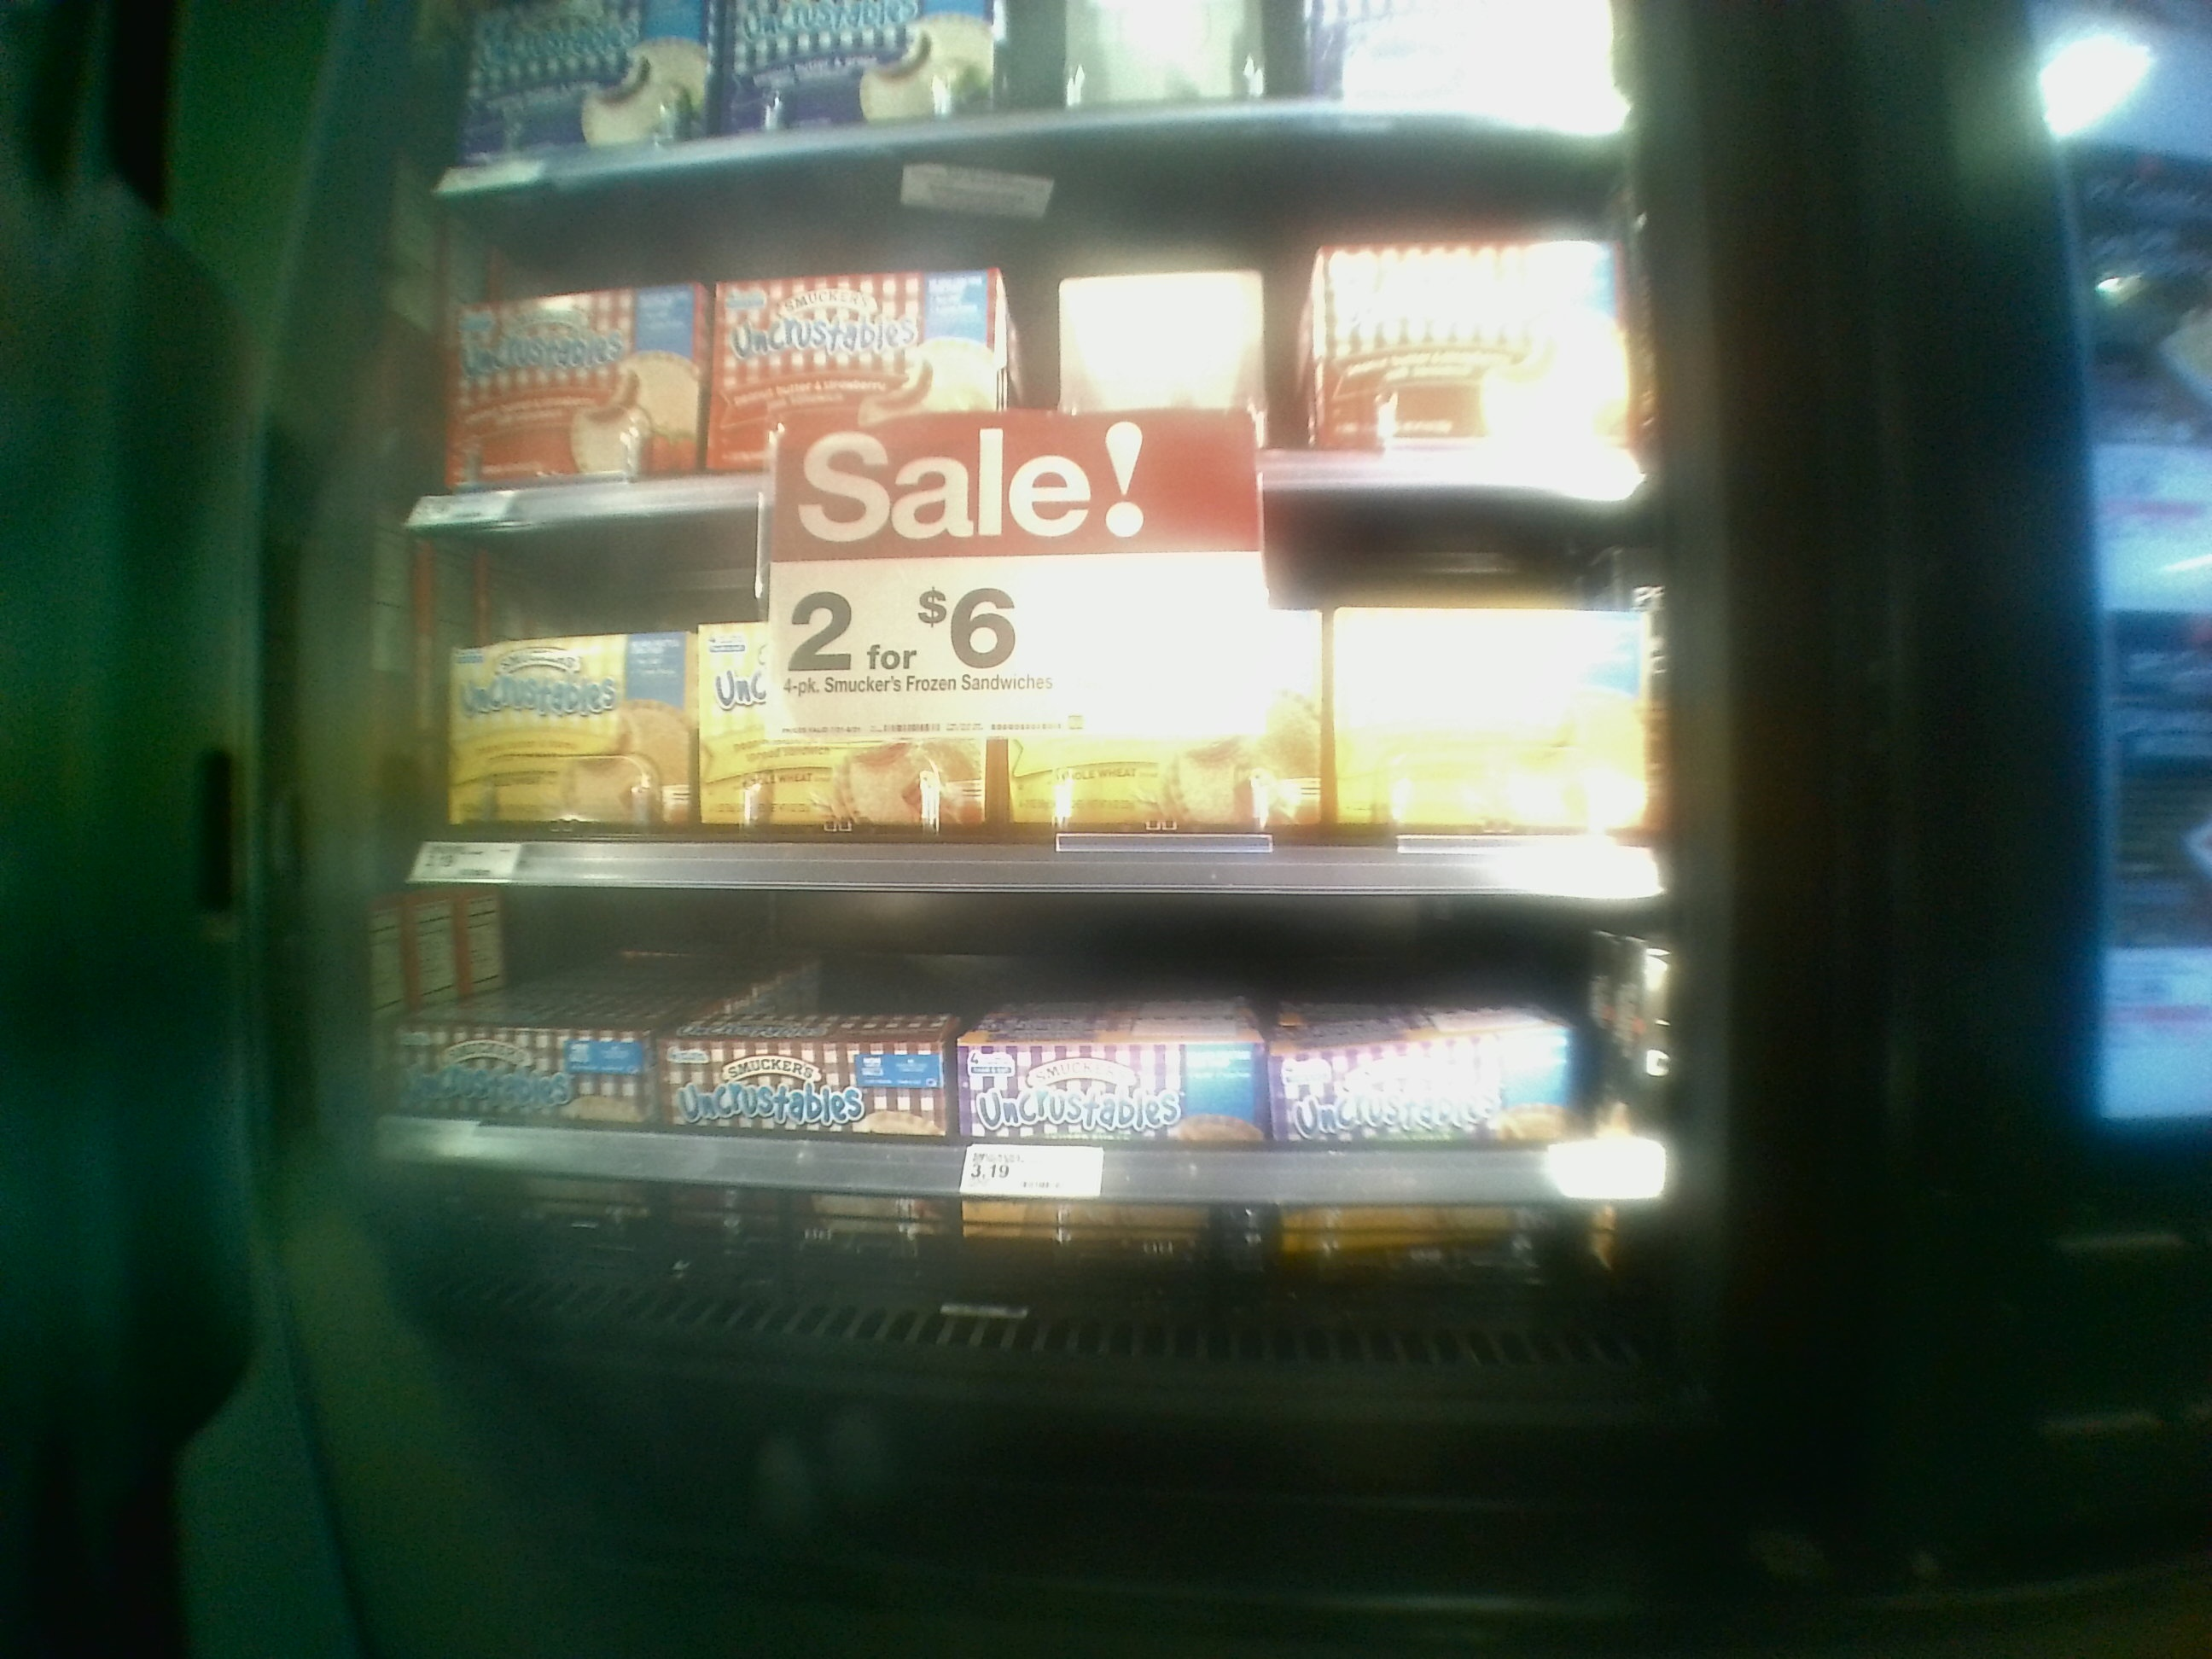shelf: (404, 859, 1669, 1368), (408, 495, 1663, 887), (418, 178, 1651, 497)
